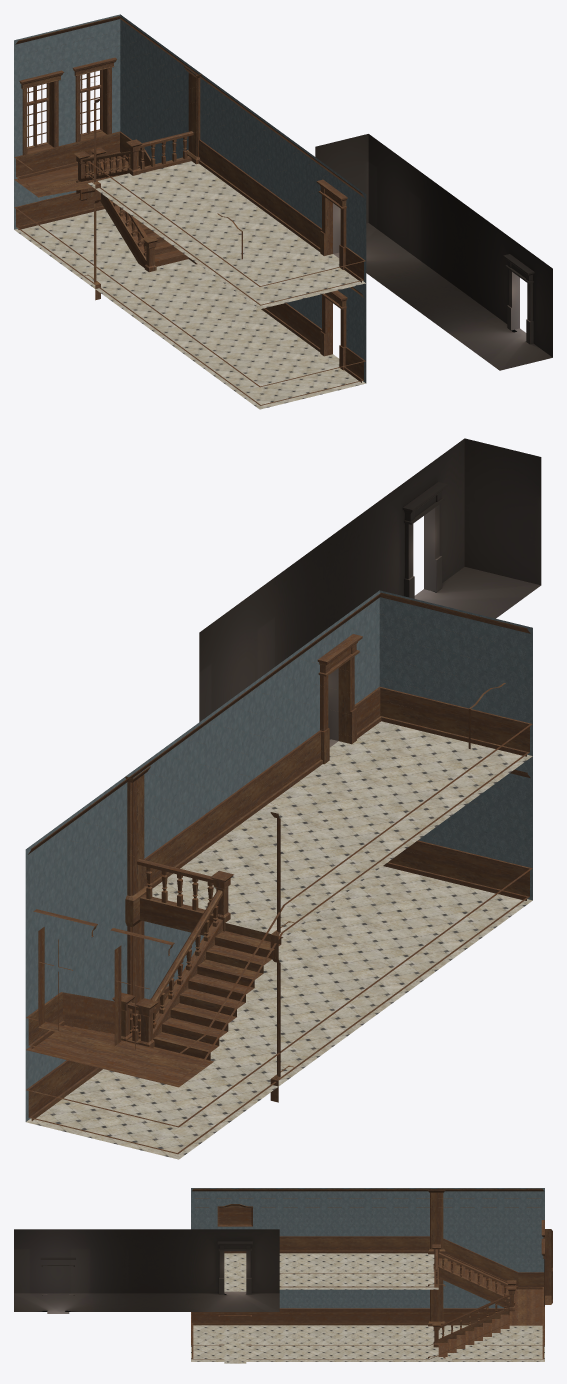
Rendered from room.glb.
The picture shows the model from 3 angles, top to bottom: view 1: azimuth 30°, elevation 25°; view 2: azimuth 150°, elevation 25°; view 3: azimuth 270°, elevation 25°; orthographic projection. The views are drawn at different scales.
Visible parts, largest first — view 1: floor, wall, hallway, wainscot, window, door, hallway_door, pillar, railing_base, stairs_base, railing_baluster, stairs_steps (+3 smaller); view 2: floor, wall, hallway, wainscot, stairs_steps, pillar, stairs_base, hallway_door, door, railing_base, window, cornice (+3 smaller); view 3: wall, hallway, floor, wainscot, stairs_steps, pillar, railing_base, stairs_base, hallway_door, cornice, window, signboard (+4 smaller).
Boxes of the visible parts, x1=… form: floor: x1=14, y1=161, x2=365, y2=409; wall: x1=14, y1=14, x2=366, y2=383; hallway: x1=315, y1=134, x2=552, y2=370; wainscot: x1=14, y1=131, x2=365, y2=405; window: x1=19, y1=57, x2=117, y2=155; door: x1=316, y1=179, x2=347, y2=370; hallway_door: x1=333, y1=177, x2=534, y2=344; pillar: x1=84, y1=66, x2=201, y2=300; railing_base: x1=81, y1=156, x2=191, y2=267; stairs_base: x1=14, y1=156, x2=128, y2=208; railing_baluster: x1=84, y1=136, x2=187, y2=256; stairs_steps: x1=41, y1=174, x2=188, y2=266; floor: x1=26, y1=721, x2=532, y2=1159; wall: x1=25, y1=590, x2=532, y2=1121; hallway: x1=199, y1=438, x2=541, y2=747; wainscot: x1=26, y1=686, x2=532, y2=1154; stairs_steps: x1=73, y1=923, x2=281, y2=1060; pillar: x1=125, y1=766, x2=294, y2=1102; stairs_base: x1=26, y1=1025, x2=213, y2=1087; hallway_door: x1=293, y1=482, x2=447, y2=740; door: x1=317, y1=634, x2=362, y2=764; railing_base: x1=127, y1=895, x2=222, y2=1044; window: x1=33, y1=909, x2=174, y2=1055; cornice: x1=28, y1=592, x2=530, y2=854; wall: x1=191, y1=1188, x2=544, y2=1308; hallway: x1=14, y1=1229, x2=279, y2=1313; floor: x1=191, y1=1253, x2=544, y2=1363; wainscot: x1=191, y1=1236, x2=544, y2=1359; stairs_steps: x1=438, y1=1258, x2=509, y2=1356; pillar: x1=428, y1=1190, x2=445, y2=1358; railing_base: x1=434, y1=1266, x2=509, y2=1342; stairs_base: x1=509, y1=1289, x2=544, y2=1325; hallway_door: x1=40, y1=1241, x2=252, y2=1295; cornice: x1=192, y1=1189, x2=543, y2=1191; window: x1=541, y1=1220, x2=552, y2=1306; signboard: x1=217, y1=1204, x2=252, y2=1226.
Bounding box in the file's own units: 6.6 × 7.35 × 24.36.
5 materials, 5 textured.
